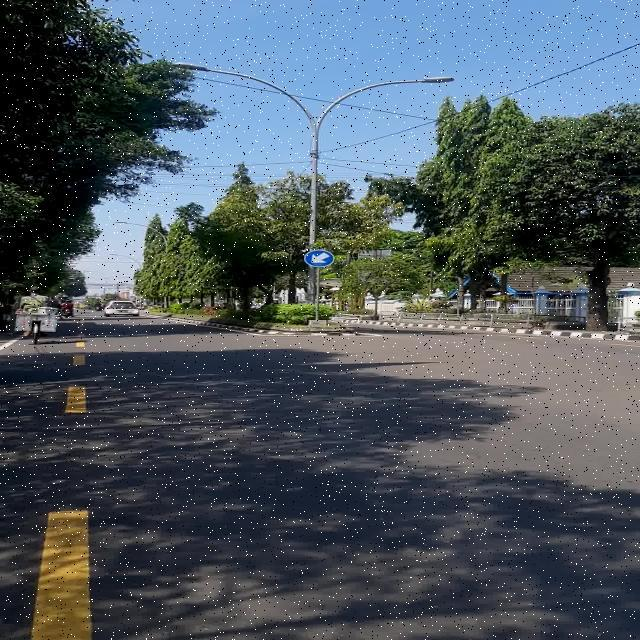Lajur Kiri: (304, 250, 334, 268)
